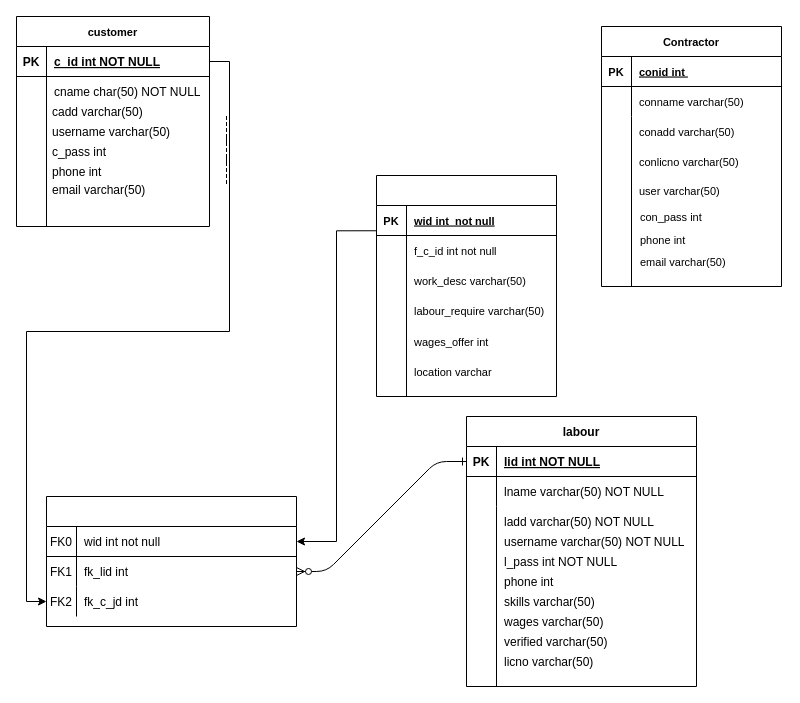
Image size: 800x703. Some labels were removed from this diagram. Each missing label, with the box of its shape:
custlabour: (46, 496, 296, 626)
workcl: (376, 174, 556, 396)
